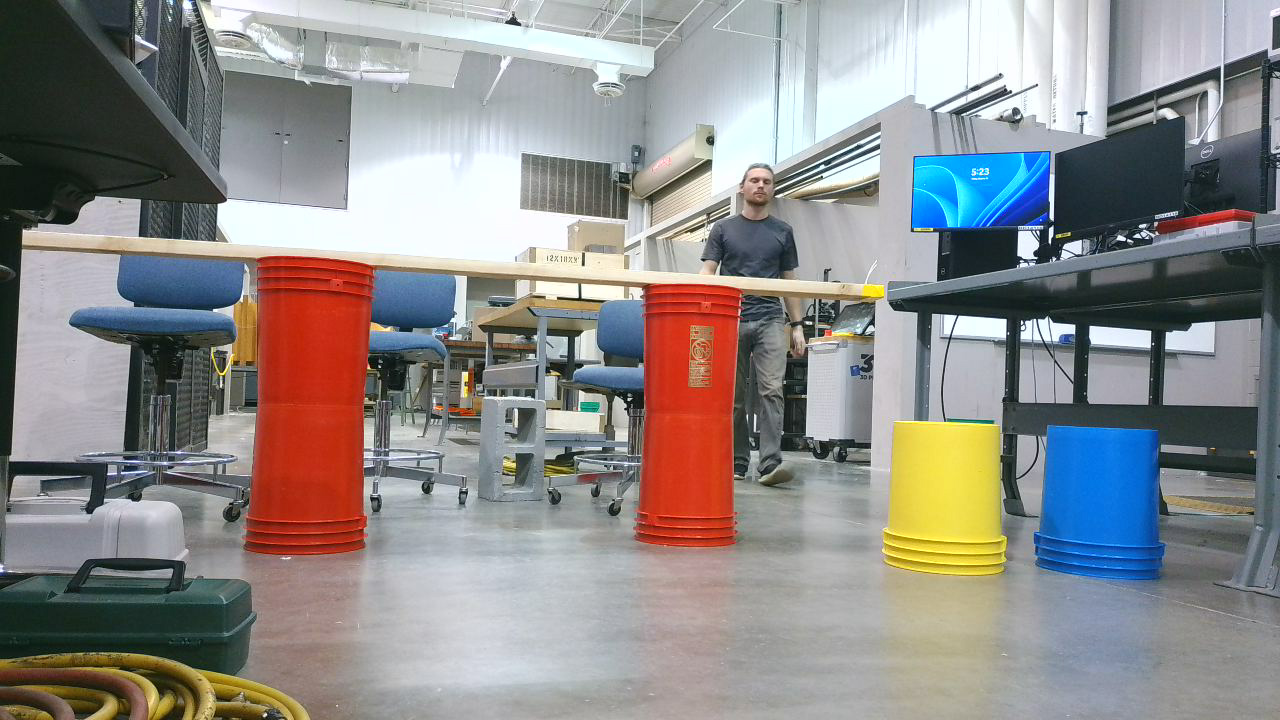blue_bucket: (1036, 424, 1175, 590)
red_bucket_arch: (241, 256, 757, 565)
yellow_bucket: (883, 421, 1021, 585)
